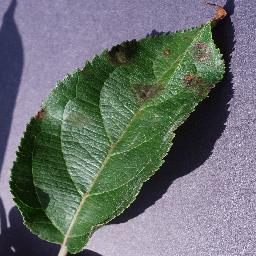apple healthy: (8, 0, 232, 255)
